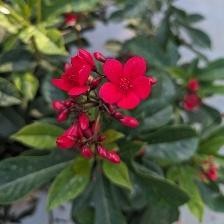jatropha: (99, 56, 154, 112)
